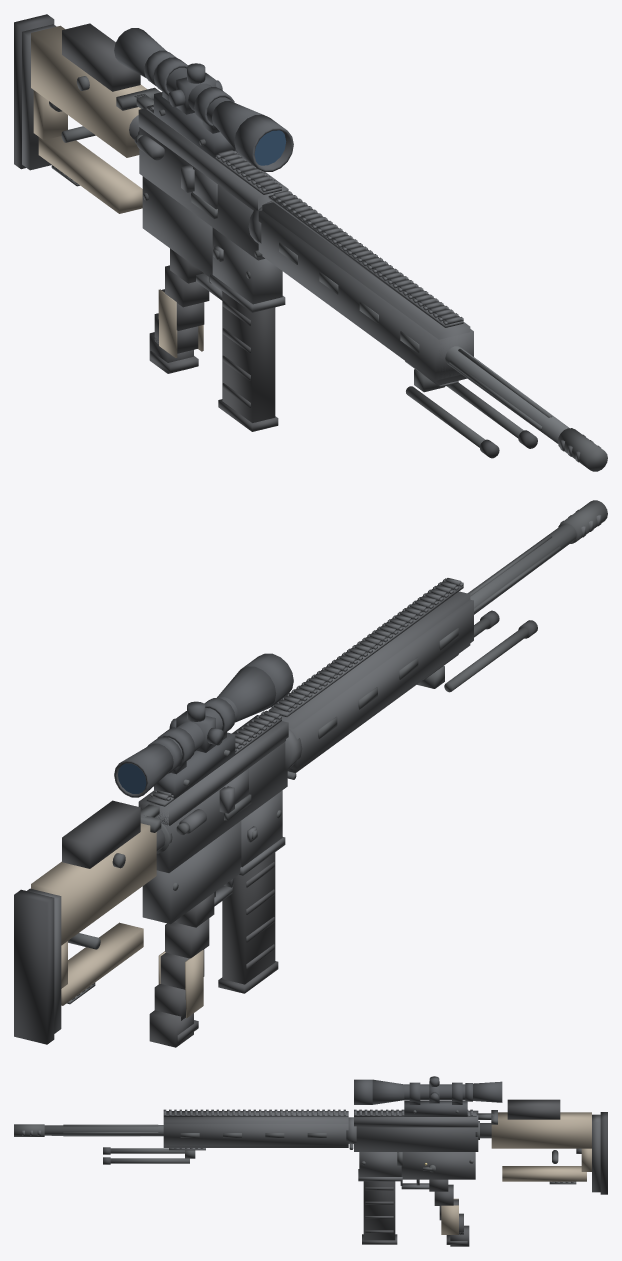
The model's file is dmr.glb.
3 renders of one model, top to bottom at view 1: azimuth 30°, elevation 25°; view 2: azimuth 150°, elevation 25°; view 3: azimuth 270°, elevation 25°, orthographic. The views are drawn at different scales.
Visible parts, largest first — view 1: body, mag; view 2: body, mag; view 3: body, mag.
Part boxes in pixels (<box>): body: <box>14,14,607,471</box>; mag: <box>218,291,278,431</box>; body: <box>14,500,607,1047</box>; mag: <box>218,852,278,993</box>; body: <box>14,1076,607,1246</box>; mag: <box>362,1181,397,1244</box>.
Bounding box in the file's own units: 0.0605 × 0.344 × 1.12.
